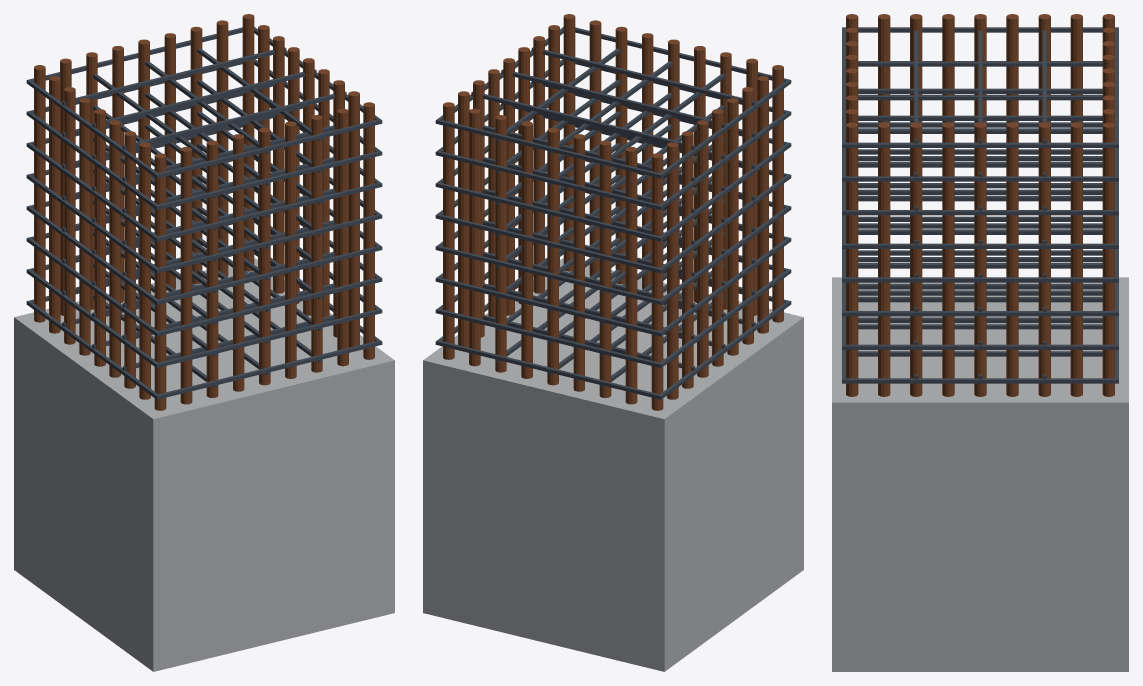
Rendered from column_c2.glb.
3 views of the same model, side by side, from view 1: azimuth 30°, elevation 25°; view 2: azimuth 150°, elevation 25°; view 3: azimuth 270°, elevation 25° (orthographic). The views are drawn at different scales.
Visible parts, largest first — view 1: C_concrete, C_bars, C_ties; view 2: C_concrete, C_bars, C_ties; view 3: C_concrete, C_ties, C_bars.
Boxes of the visible parts, bbox=[...] form: C_concrete: bbox=[14, 258, 394, 671]; C_bars: bbox=[34, 14, 374, 410]; C_ties: bbox=[26, 27, 382, 399]; C_concrete: bbox=[423, 258, 803, 671]; C_bars: bbox=[443, 14, 783, 410]; C_ties: bbox=[435, 27, 791, 399]; C_concrete: bbox=[832, 277, 1128, 671]; C_ties: bbox=[842, 27, 1118, 383]; C_bars: bbox=[846, 14, 1114, 396].
Bounding box in the file's own units: 1.2 × 2.4 × 1.2.
